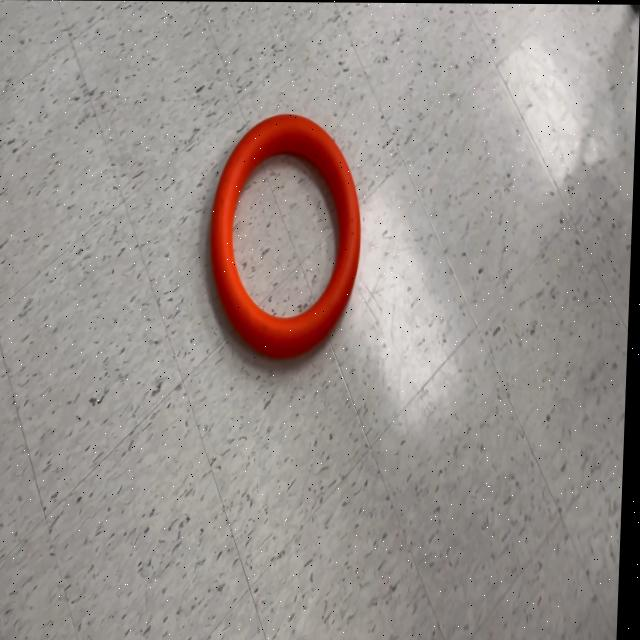note: (208, 113, 369, 360)
